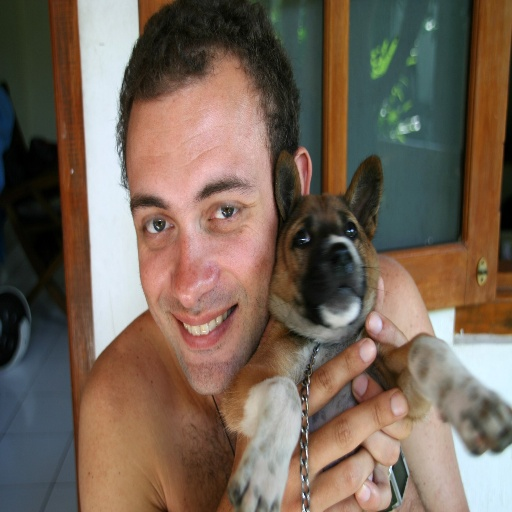hand: (233, 336, 410, 511), (350, 275, 411, 511)
